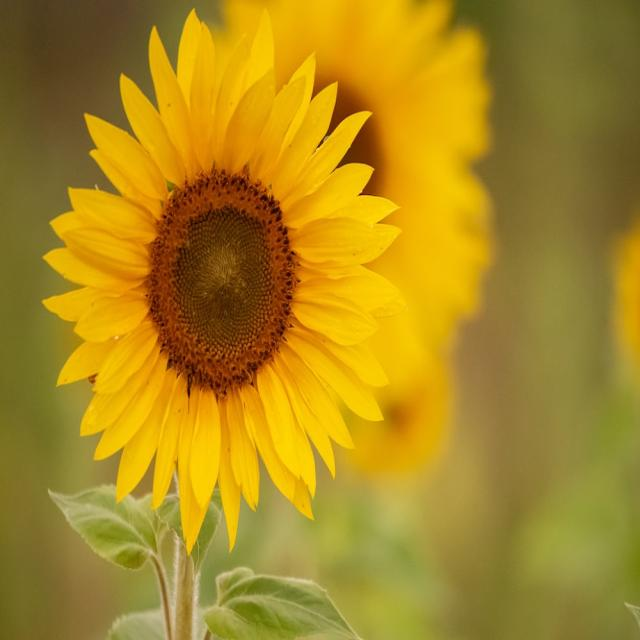sunflower: (39, 3, 411, 560), (192, 0, 509, 471), (341, 319, 469, 495)
